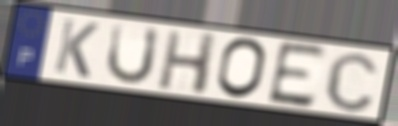C: (323, 50, 381, 114)
E: (265, 39, 330, 110)
H: (155, 29, 220, 97)
K: (51, 16, 102, 80)
O: (214, 36, 269, 101)
U: (103, 21, 162, 86)
